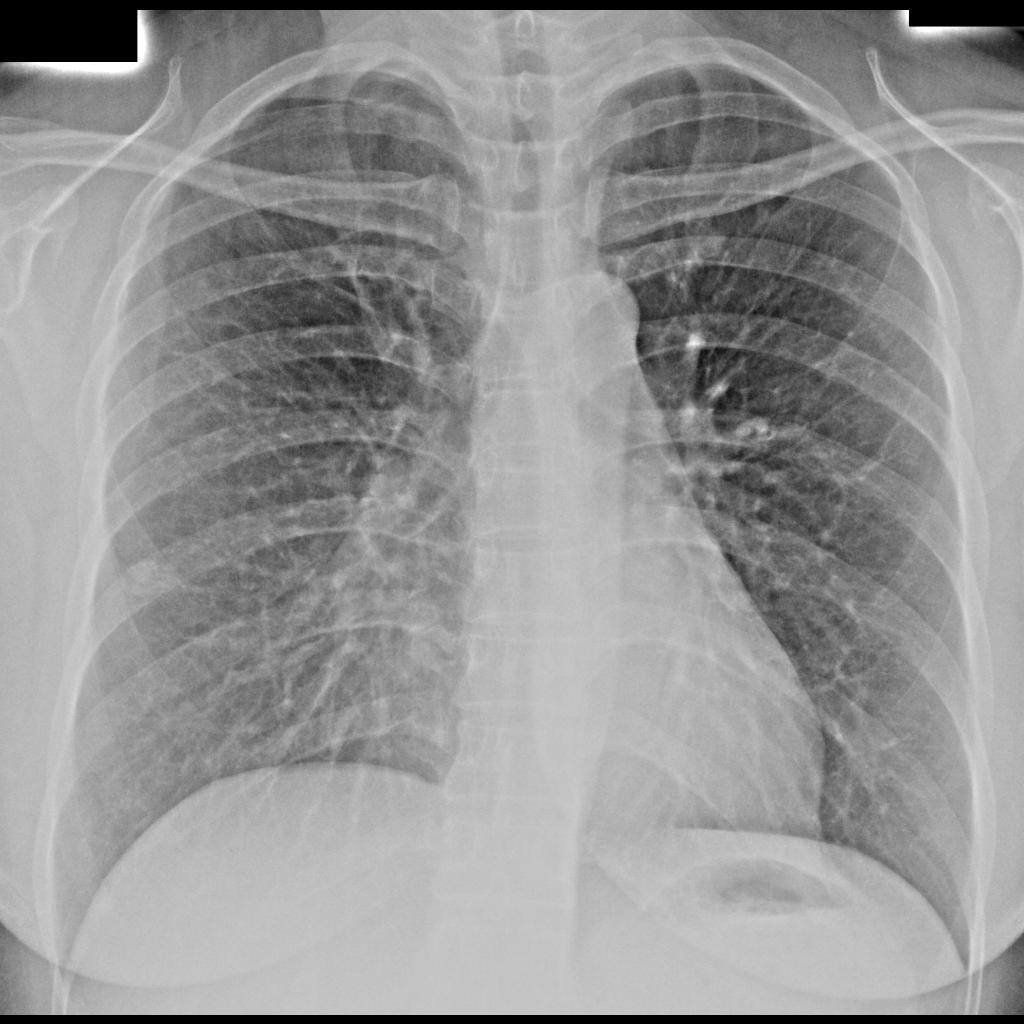Nodule: (131, 563, 168, 599)
